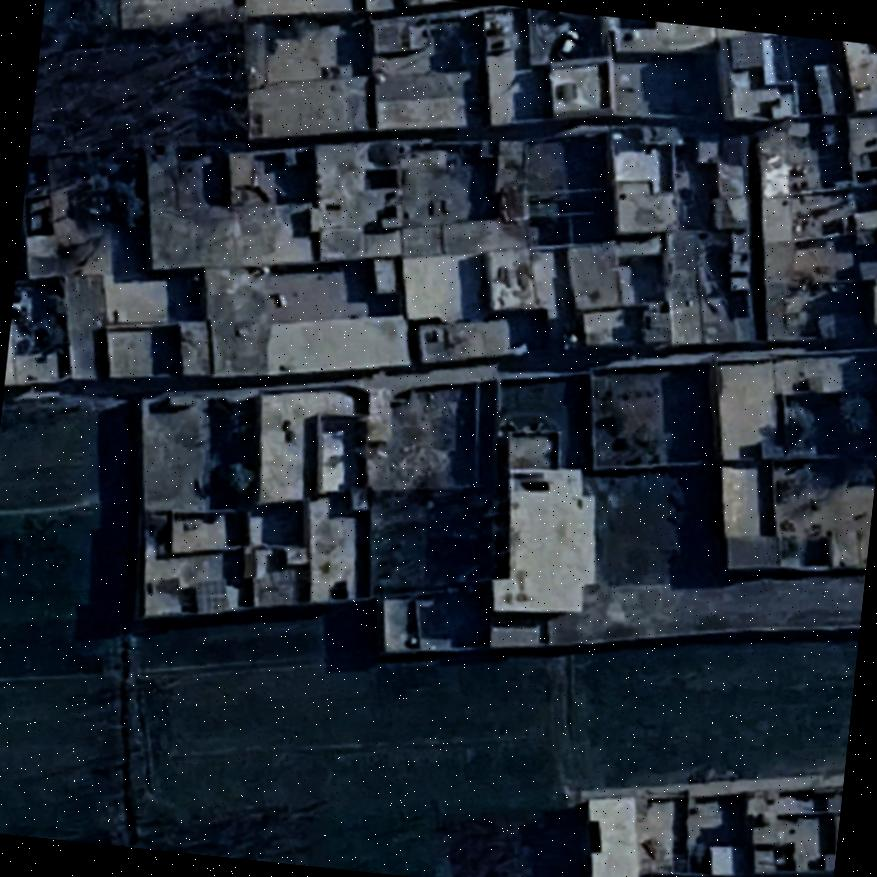Solarpanel: (192, 576, 229, 617)
